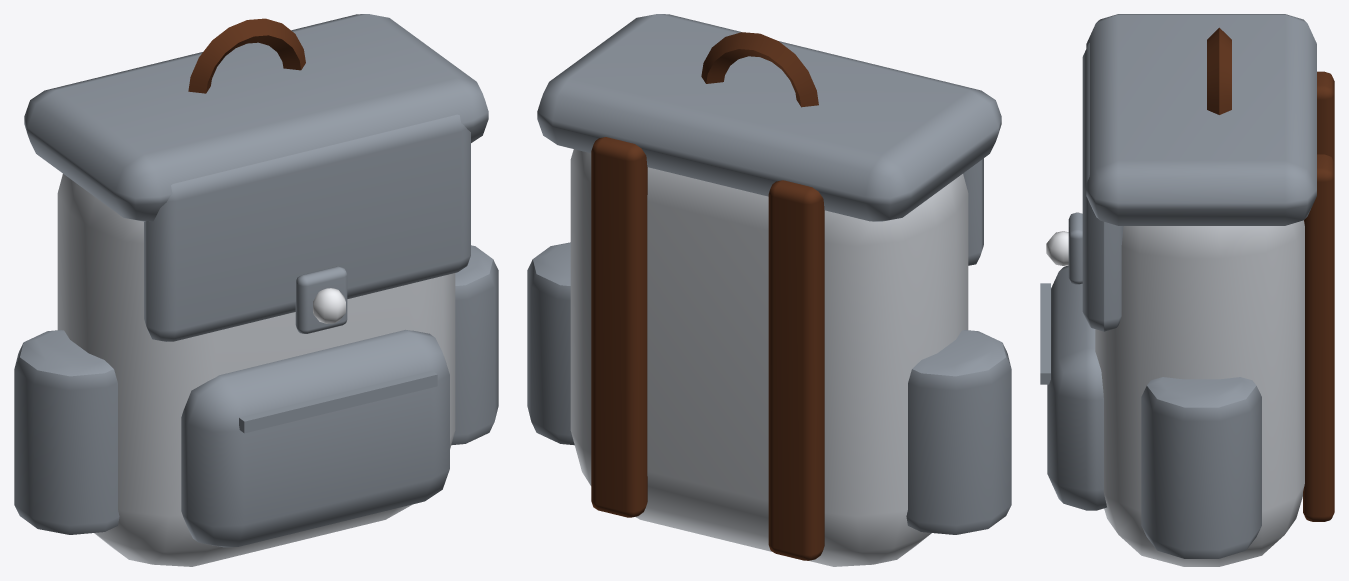
File: IronBackpack.fbx
3 views of the same model, side by side, from view 1: azimuth 30°, elevation 25°; view 2: azimuth 150°, elevation 25°; view 3: azimuth 270°, elevation 25° (orthographic). The views are drawn at different scales.
Visible parts, largest first — view 1: IronBackpack; view 2: IronBackpack; view 3: IronBackpack.
Part boxes in pixels (x1,y1,x2,y2): IronBackpack: (14, 14, 498, 566); IronBackpack: (527, 14, 1011, 566); IronBackpack: (1040, 14, 1334, 566).
Size of the model in its own units: 2.89 by 2.99 by 1.66.
1 material, 1 textured.
